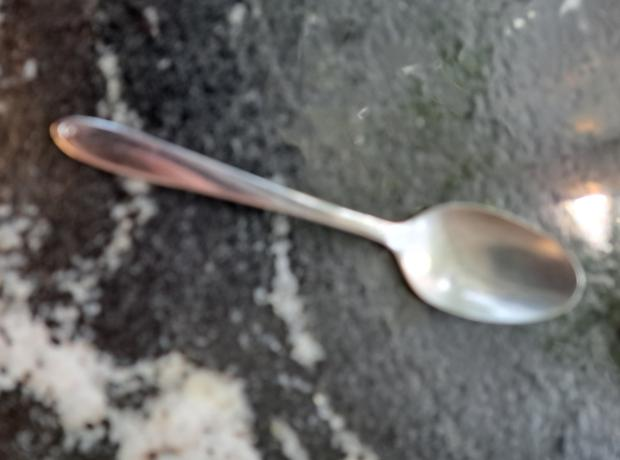metal: (42, 110, 582, 330)
